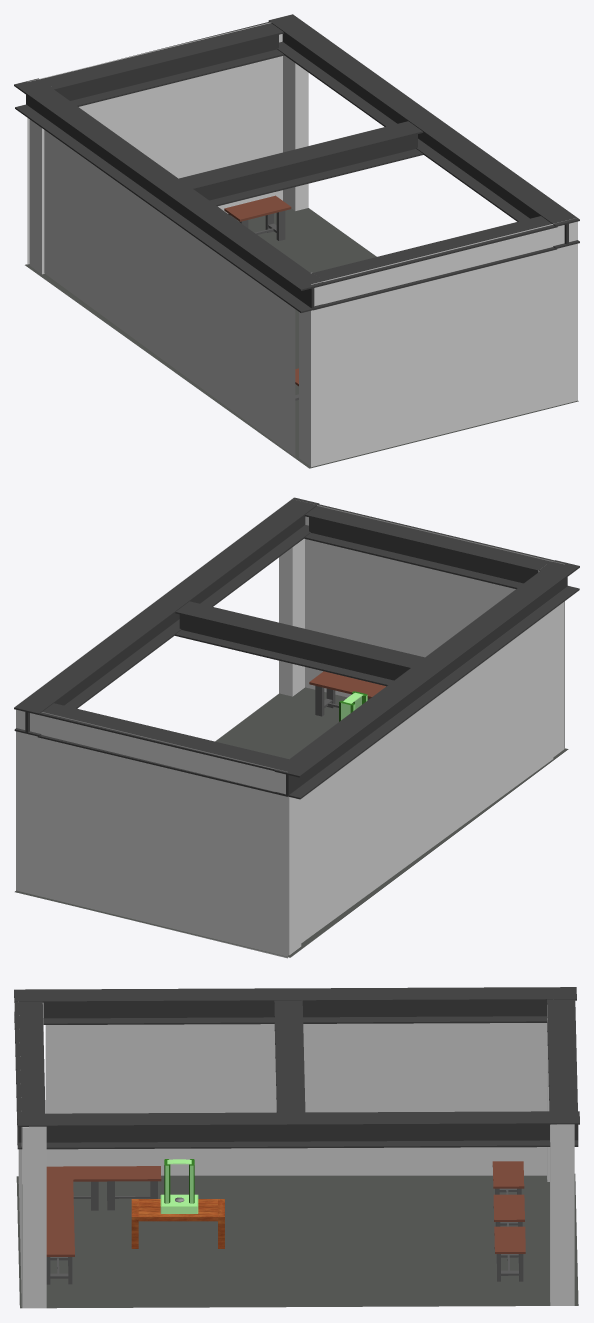
Rendered from laboratorio-compresion6.gltf.
3 views of the same model, one above another, from view 1: azimuth 30°, elevation 25°; view 2: azimuth 150°, elevation 25°; view 3: azimuth 270°, elevation 25° (orthographic).
Visible parts, largest first — view 1: Vigas_Amarre, ParedFondo, ParedIzquierda.009, ParedDerecha, Piso, Columna4, Colimna3, Columna2, Mesa.Lab3; view 2: ParedDerecha, Vigas_Amarre, ParedIzquierda.009, ParedFondo, Piso, Columna1, Colimna3, Columna2, mesa5; view 3: Piso, ParedIzquierda.009, Vigas_Amarre, Columna1, Columna4, mesa_compresion, mesa1, Mesa.Lab3, mesa5, mesa2, Mesa.Lab1, Mesa.Lab2 (+3 smaller).
Part boxes in pixels (bbox=[...]): Vigas_Amarre: bbox=[14, 14, 579, 312]; ParedFondo: bbox=[311, 217, 577, 467]; ParedIzquierda.009: bbox=[44, 130, 295, 456]; ParedDerecha: bbox=[27, 22, 282, 264]; Piso: bbox=[25, 208, 578, 468]; Columna4: bbox=[283, 55, 308, 210]; Colimna3: bbox=[29, 119, 44, 274]; Columna2: bbox=[299, 272, 312, 466]; Mesa.Lab3: bbox=[224, 195, 291, 240]; ParedDerecha: bbox=[18, 710, 287, 958]; Vigas_Amarre: bbox=[14, 497, 579, 799]; ParedIzquierda.009: bbox=[301, 610, 553, 942]; ParedFondo: bbox=[292, 499, 564, 748]; Piso: bbox=[15, 687, 568, 957]; Columna1: bbox=[279, 538, 304, 696]; Colimna3: bbox=[288, 796, 301, 955]; Columna2: bbox=[538, 570, 564, 757]; mesa5: bbox=[309, 671, 375, 716]; Piso: bbox=[16, 1174, 578, 1308]; ParedIzquierda.009: bbox=[45, 1023, 546, 1175]; Vigas_Amarre: bbox=[14, 987, 579, 1149]; Columna1: bbox=[22, 1126, 46, 1308]; Columna4: bbox=[550, 1124, 574, 1305]; mesa_compresion: bbox=[131, 1199, 224, 1248]; mesa1: bbox=[101, 1166, 161, 1210]; Mesa.Lab3: bbox=[494, 1226, 525, 1281]; mesa5: bbox=[46, 1229, 74, 1284]; mesa2: bbox=[46, 1166, 101, 1210]; Mesa.Lab1: bbox=[492, 1161, 524, 1194]; Mesa.Lab2: bbox=[493, 1194, 524, 1226].
Size of the model in its own units: 10.57 by 6.51 by 18.15.
Materials: 15 (1 with a texture image).
